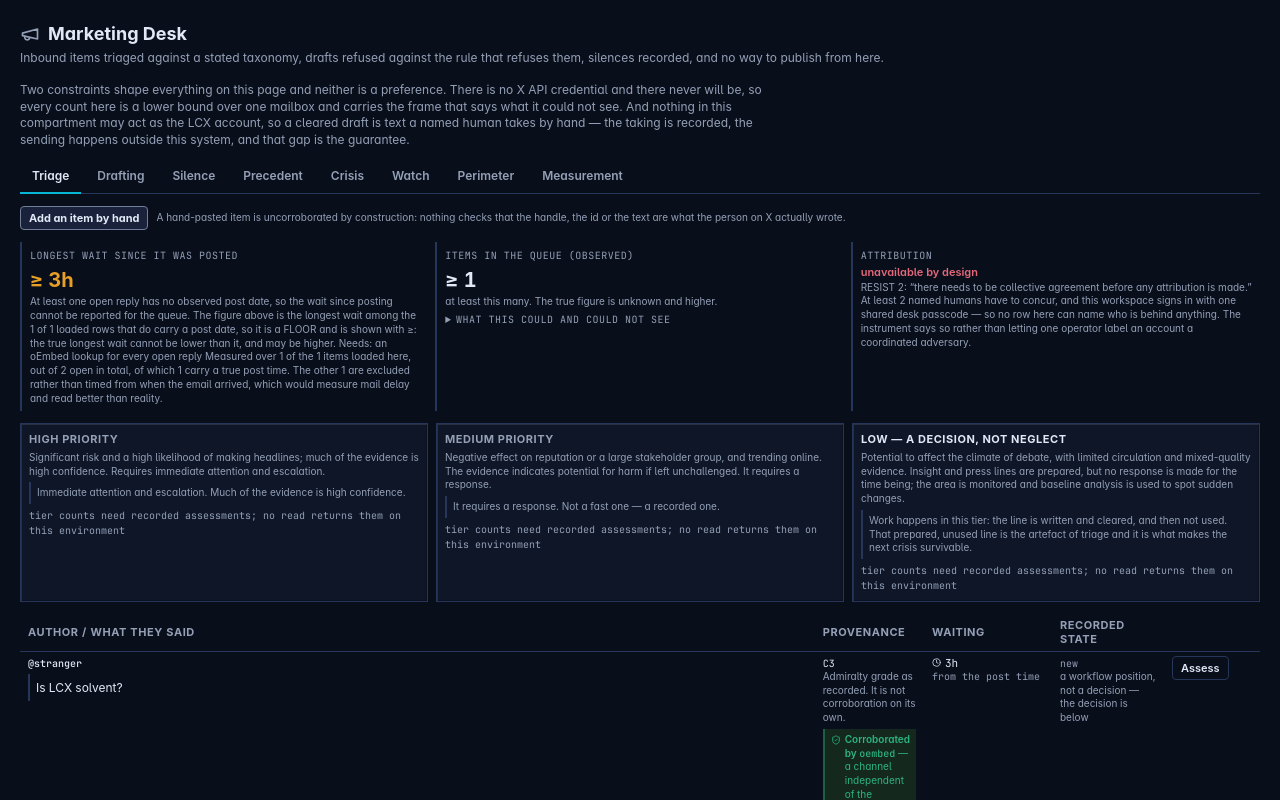
Scenario: an empty log and an undeployed log are different facts › shows "we cannot see" when the silence route is not deployed
This screenshot has width=1280, height=800.
Step 1. Click the tab "Silence" → (194, 177), box [160,160,227,194]
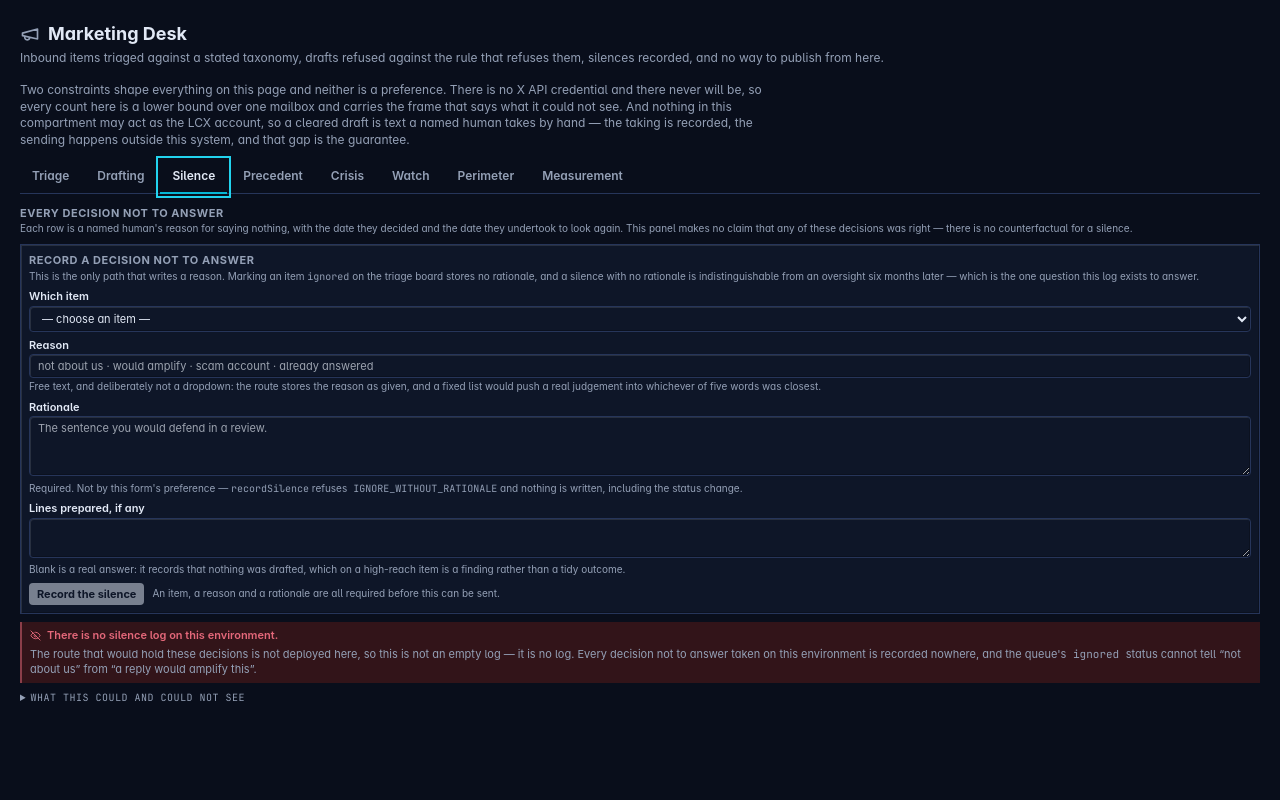
Expected: the element with test id "mkt-empty-absent" is shown, [20,622,1260,683]
Expected: the element with test id "mkt-empty-absent" shows "no silence log on this environment", [47,628,278,642]
